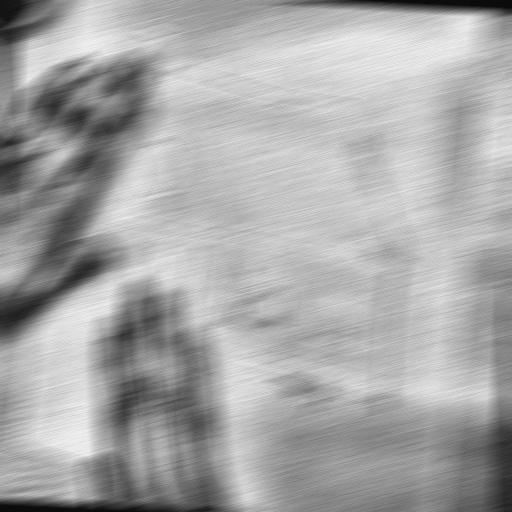bottom_left: (7, 438, 26, 451)
house: (55, 11, 447, 416)
